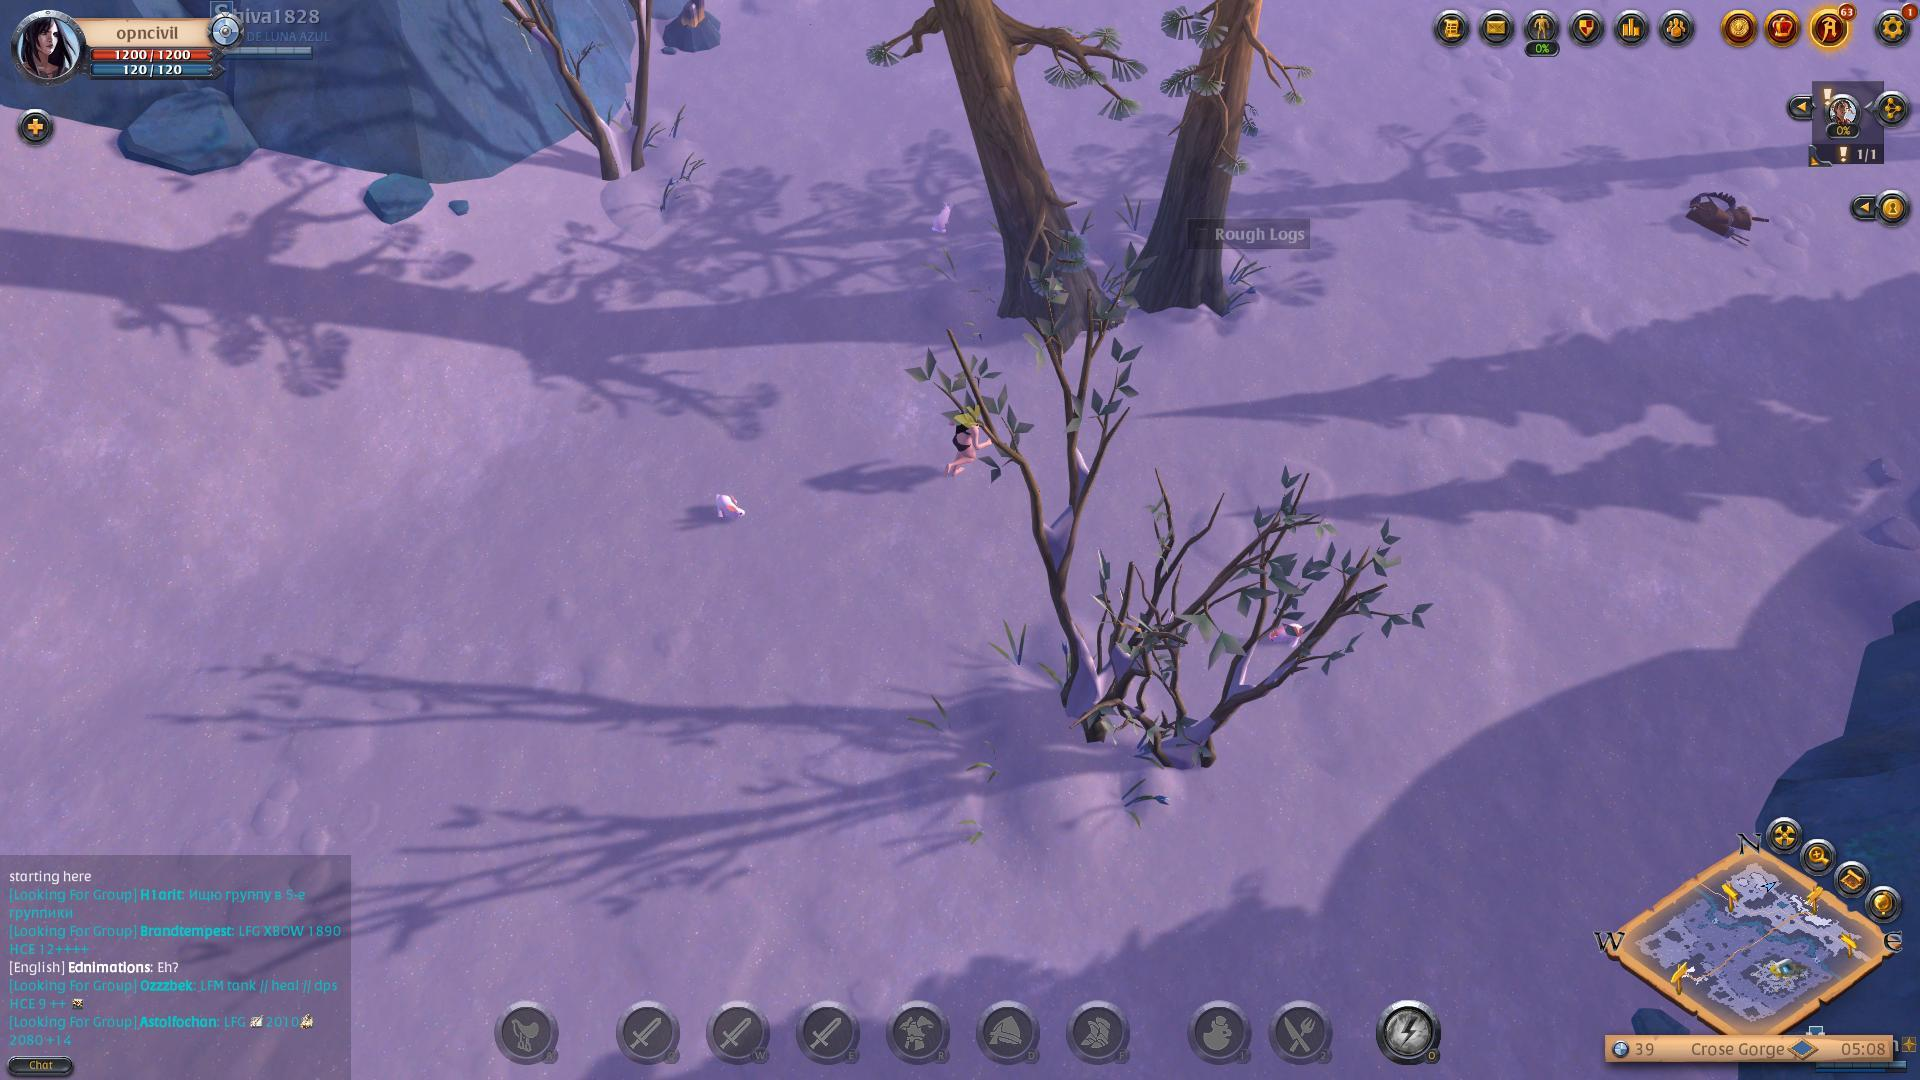copper_ore: (659, 0, 735, 57)
